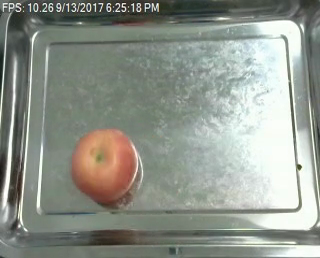Apple: (67, 128, 142, 204)
